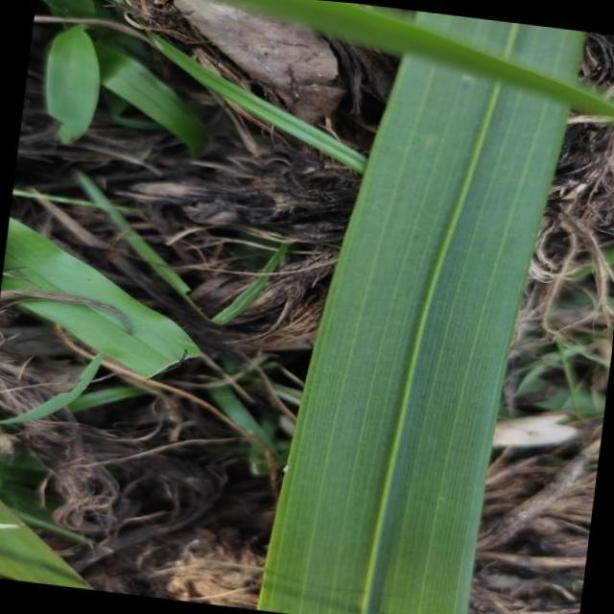Healthy: (253, 0, 582, 614)
